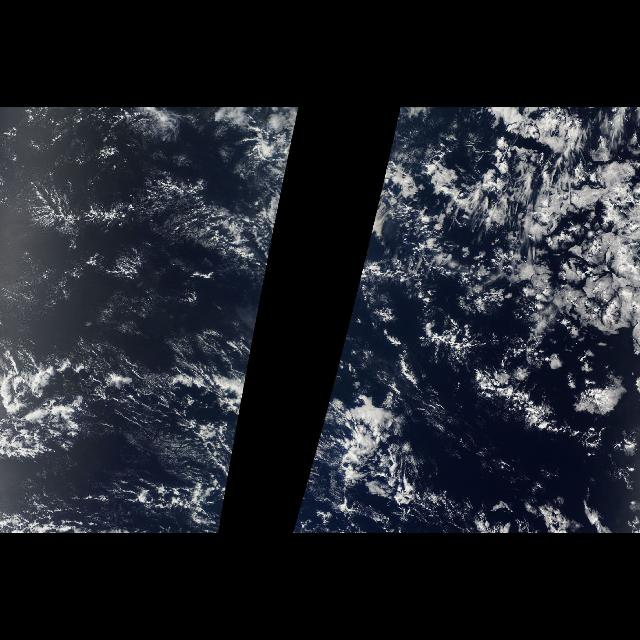Sugar: (0, 116, 264, 342)
